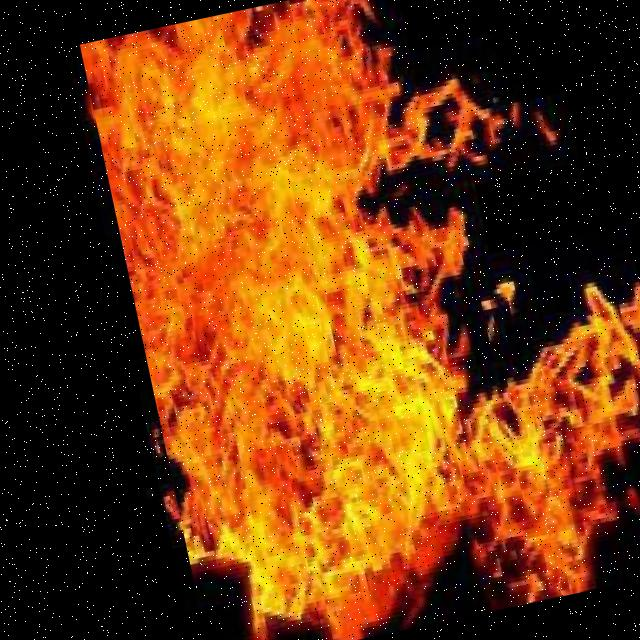fire: (79, 0, 640, 640)
